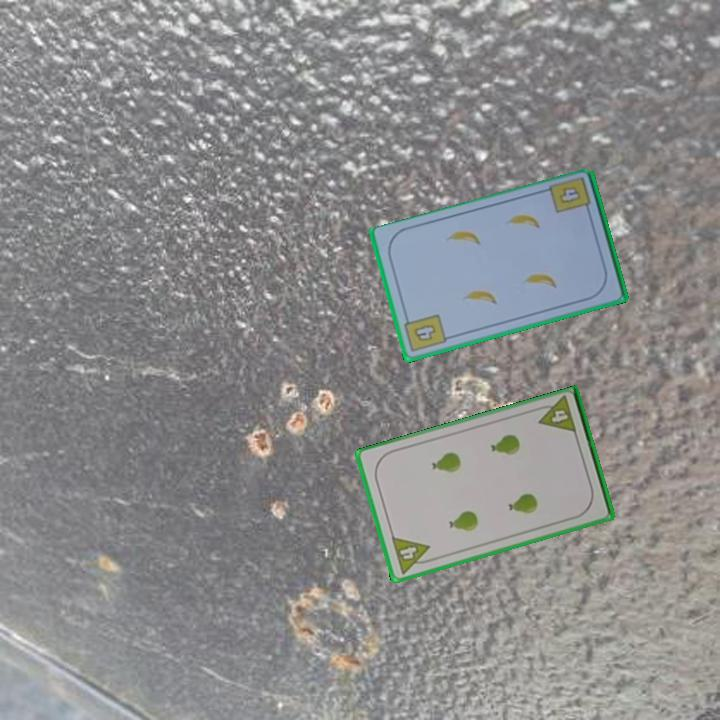4b: (401, 310, 449, 355), (555, 183, 584, 207)
4p: (388, 533, 436, 577), (532, 393, 579, 437)
